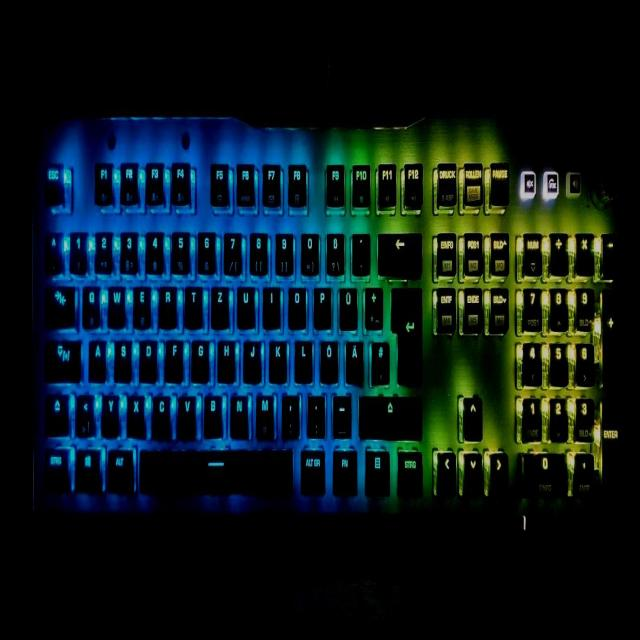0: (299, 228, 319, 274)
1: (68, 228, 86, 273)
2: (93, 228, 111, 273)
3: (119, 228, 138, 273)
4: (145, 228, 164, 273)
5: (170, 227, 189, 273)
6: (196, 227, 216, 273)
7: (222, 228, 241, 275)
8: (248, 228, 268, 275)
9: (273, 228, 293, 274)
a: (87, 335, 105, 379)
accent: (350, 228, 369, 274)
ae: (344, 337, 363, 381)
alt-left: (106, 444, 133, 490)
altgr-right: (299, 444, 324, 491)
b: (203, 389, 222, 435)
c: (151, 390, 169, 435)
caret: (43, 229, 62, 271)
comma: (280, 390, 298, 436)
d: (139, 335, 156, 380)
del: (376, 227, 421, 272)
e: (133, 282, 150, 326)
enter: (390, 281, 421, 385)
f: (164, 335, 182, 379)
g: (190, 335, 208, 380)
h: (217, 335, 234, 380)
hash: (370, 338, 388, 382)
i: (261, 283, 280, 325)
j: (242, 336, 261, 381)
k: (268, 336, 286, 381)
keyboard: (29, 117, 635, 547)
l: (294, 335, 311, 380)
less: (75, 389, 92, 434)
m: (254, 389, 274, 437)
minus: (331, 391, 350, 435)
n: (229, 390, 248, 435)
o: (286, 283, 306, 326)
oe: (319, 336, 338, 381)
p: (312, 282, 331, 327)
plus: (363, 282, 382, 328)
point: (306, 391, 324, 434)
q: (81, 282, 99, 326)
r: (158, 282, 176, 326)
s: (113, 335, 130, 379)
shift-left: (43, 391, 68, 433)
shift-lock: (43, 336, 80, 380)
shift-right: (357, 392, 421, 437)
space: (137, 446, 292, 491)
ss: (325, 229, 344, 275)
strg-left: (42, 444, 68, 488)
strg-right: (395, 444, 422, 493)
t: (184, 282, 201, 325)
tab: (43, 282, 75, 325)
u: (235, 282, 255, 326)
ue: (337, 283, 356, 329)
v: (177, 390, 195, 436)
w: (107, 282, 124, 326)
x: (126, 391, 144, 433)
y: (101, 391, 118, 434)
z: (210, 283, 228, 326)
